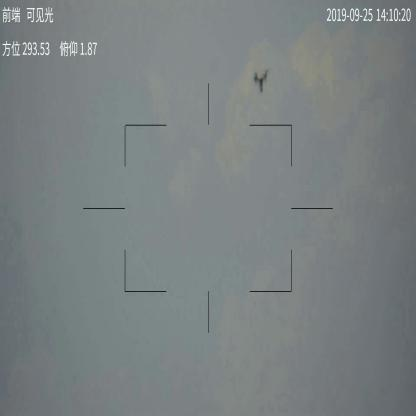uav: (253, 66, 269, 94)
